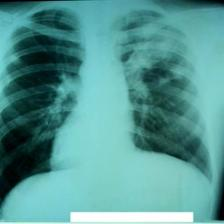tuberculosis: (1, 4, 224, 205)
